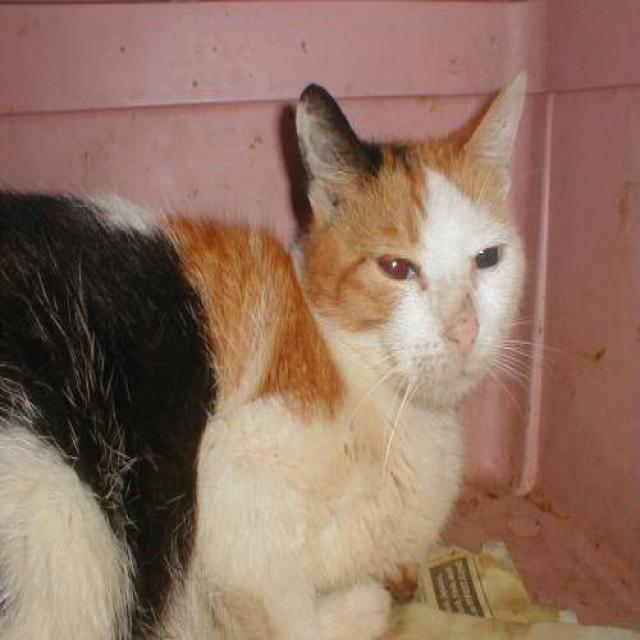cat: (0, 69, 552, 638)
